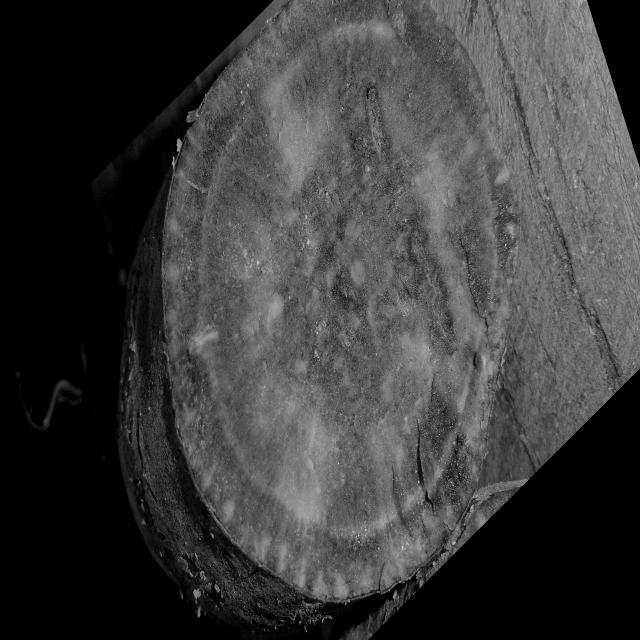Sick Sweet Potato_Tuber Rot: (161, 2, 518, 600)
